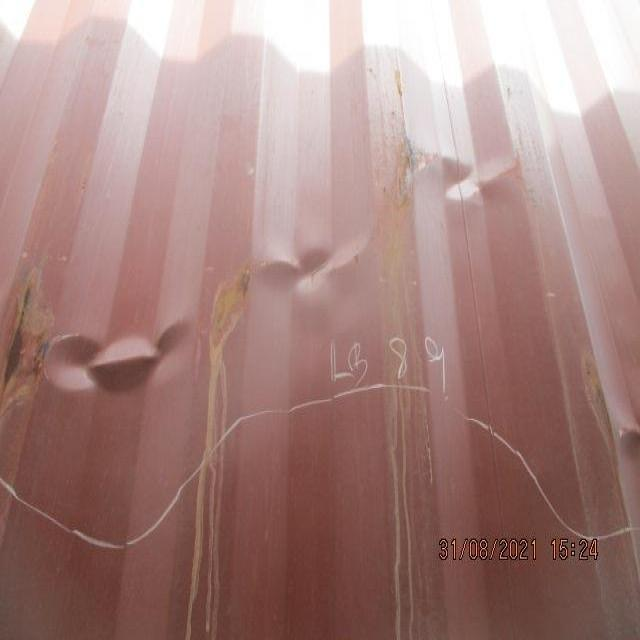Dent: (1, 125, 568, 416)
